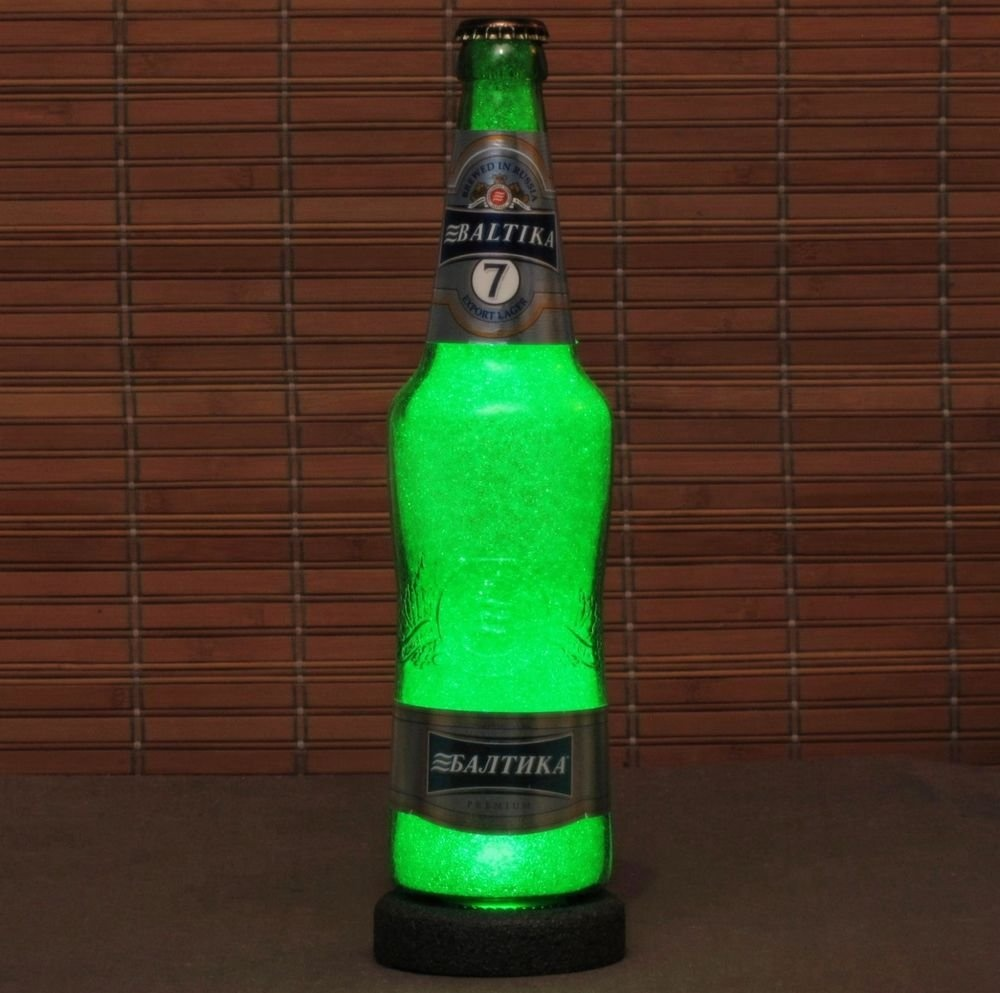beerBottle: (385, 24, 612, 886)
